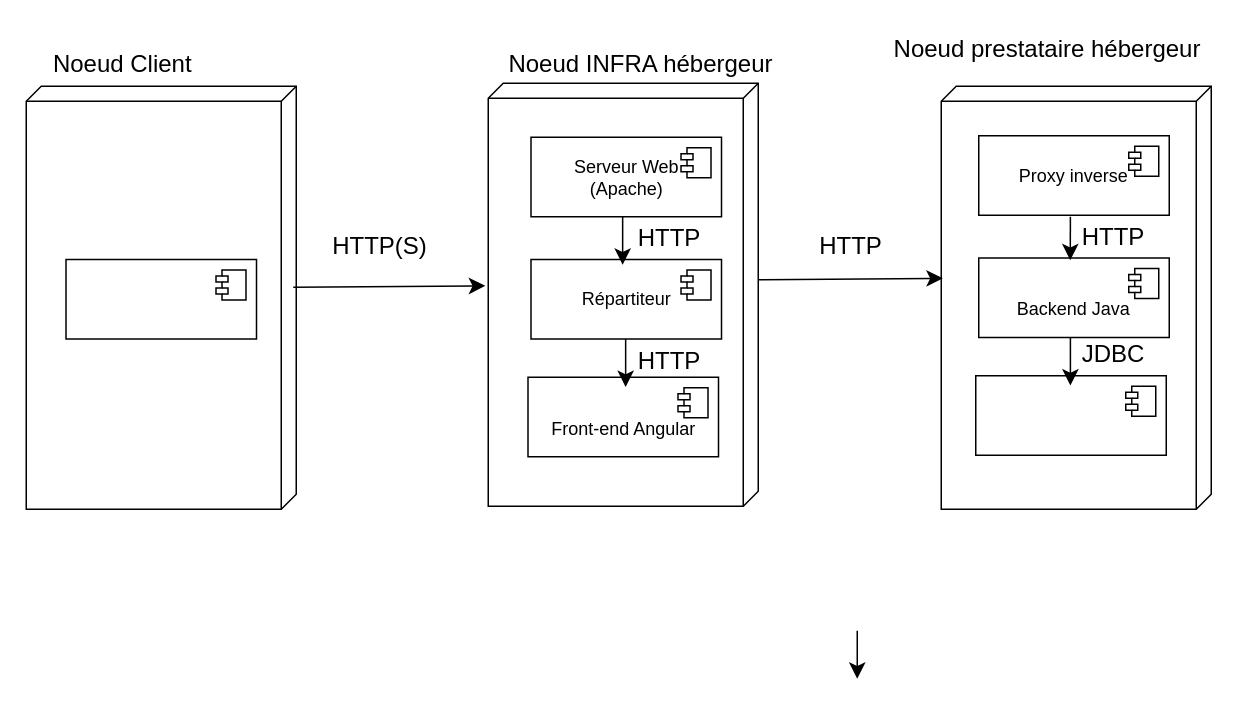
Image size: 1241x704. Some labels were removed from this diagram. The shapes that lost their labels are listed below. From the top down, each one's centre as x and y in pixels, then its label:
point 160,298: Navigateur
point 1070,414: Base MySQL
